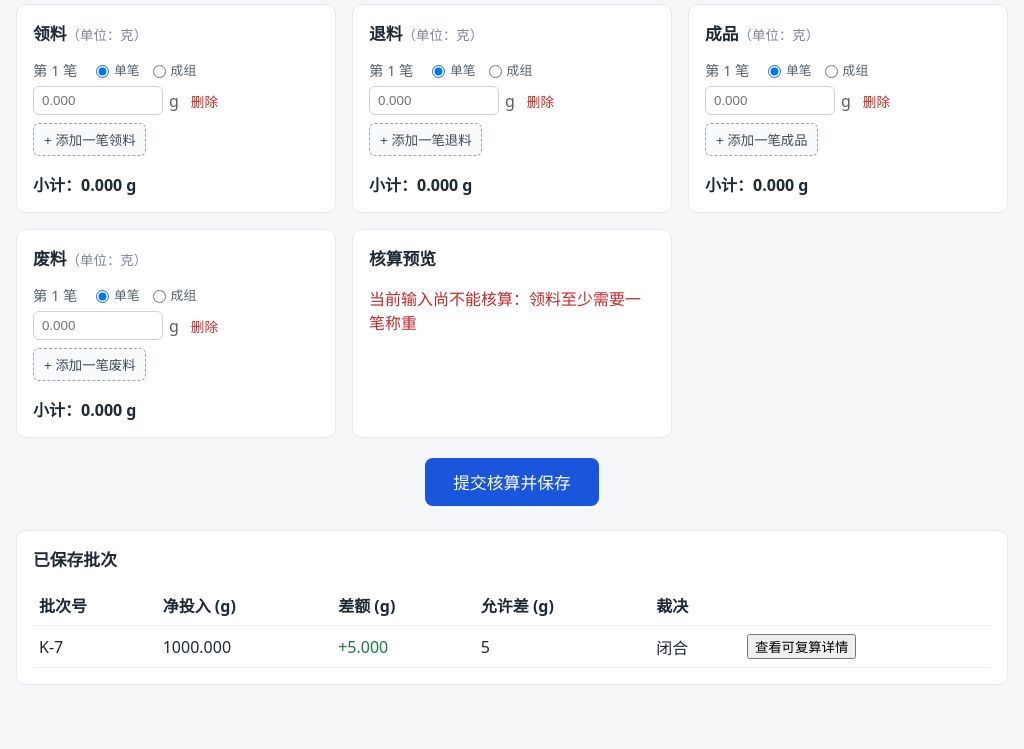
Test: App 核算站 › 浏览器刷新后仍得到同一业务结果：挂载即拉取已保存批次与详情
The width and height of the screenshot is (1024, 749).
(page scrolled)
Expected: the row with test id "row-7" shows "K-7", [39, 636, 63, 658]
Expected: the row with test id "row-7" shows "+5.000", [338, 636, 388, 658]
Click the button "查看可复算详情": (802, 647) [747, 634, 856, 659]
(page scrolled)
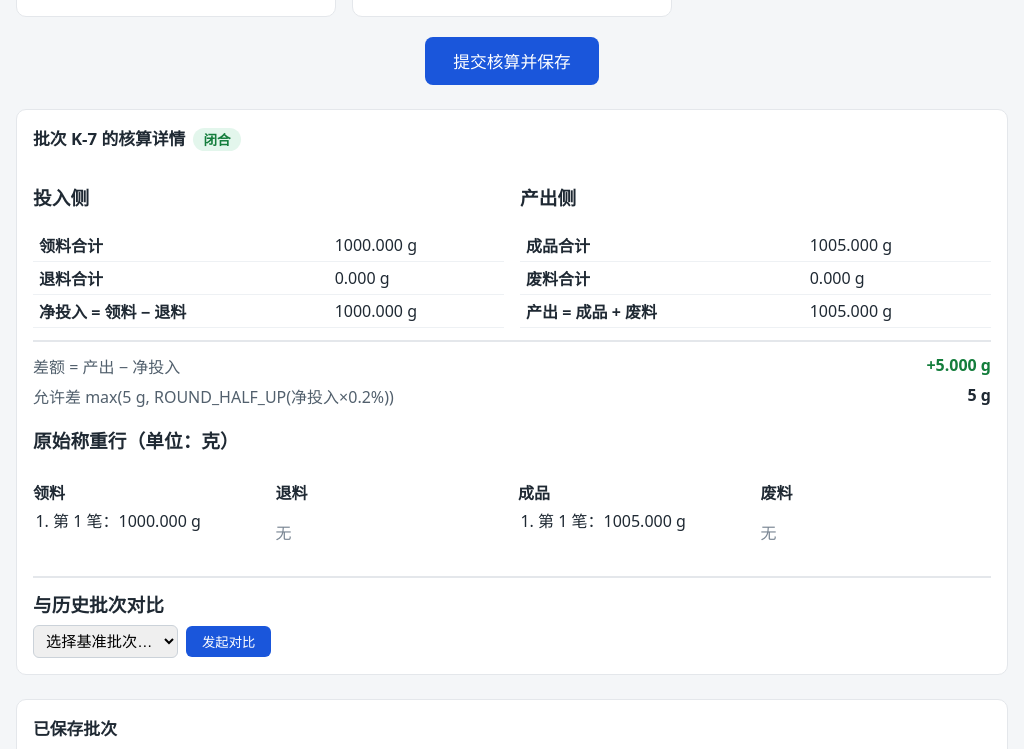
Now the text with test id "detail-difference" shows "+5.000", box [926, 354, 977, 376]
